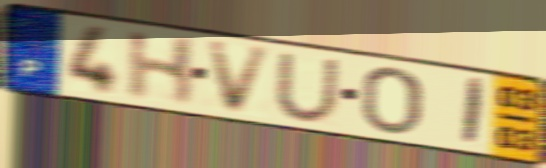4: (64, 22, 124, 99)
H: (124, 29, 199, 108)
I: (458, 75, 489, 149)
O: (360, 65, 426, 137)
U: (272, 51, 343, 126)
V: (205, 39, 276, 116)
